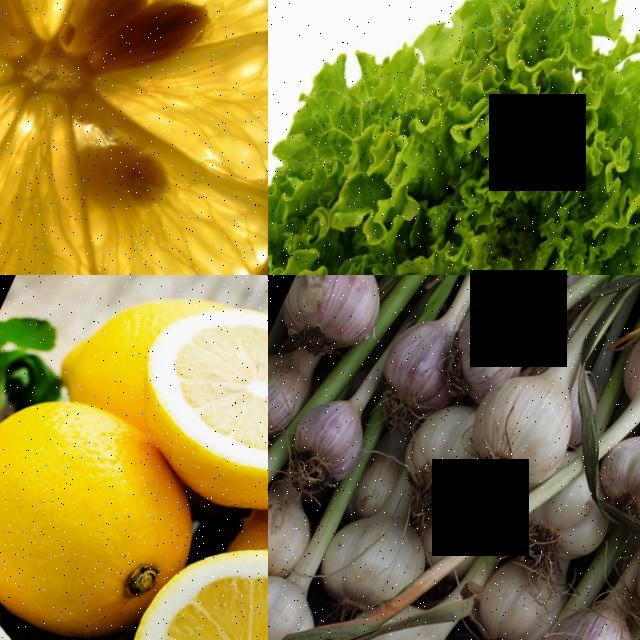garlic: (453, 357, 588, 499), (306, 494, 427, 622), (268, 275, 403, 375), (366, 298, 470, 412), (277, 379, 380, 491), (441, 293, 540, 398), (457, 550, 564, 640), (581, 408, 640, 535), (526, 586, 638, 640), (605, 300, 640, 423), (326, 609, 459, 640), (268, 553, 310, 640)
lemon: (0, 0, 268, 275), (0, 362, 184, 638), (108, 275, 268, 534), (84, 515, 268, 640), (0, 538, 38, 640)
lettuce: (268, 0, 640, 275)
